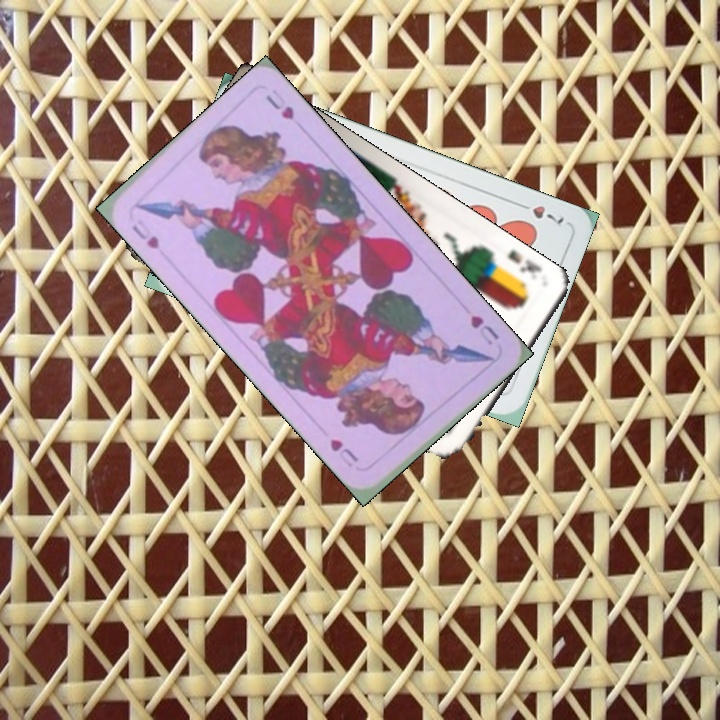EK: (503, 246, 545, 276)
H7: (512, 198, 567, 227)
HU: (466, 311, 502, 348), (127, 214, 162, 252)
